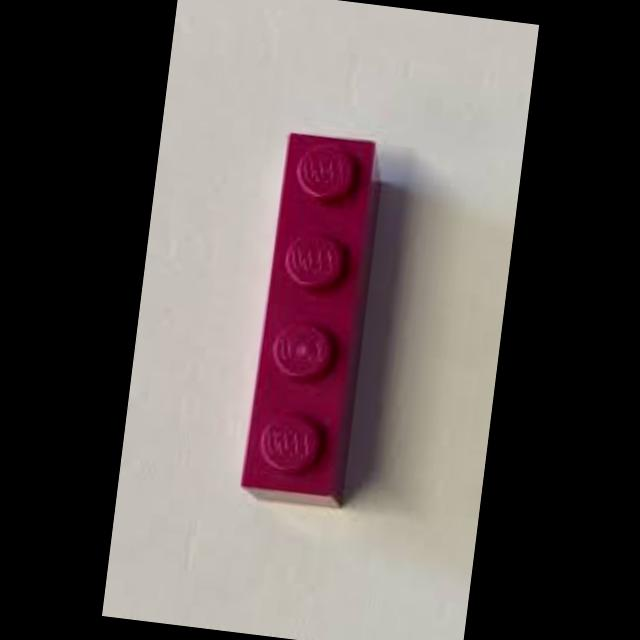1x4: (242, 137, 379, 500)
